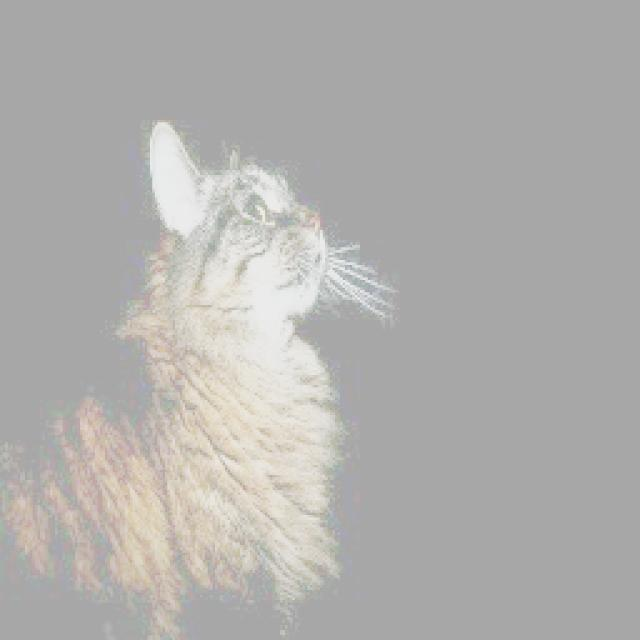cat: (0, 117, 390, 640)
